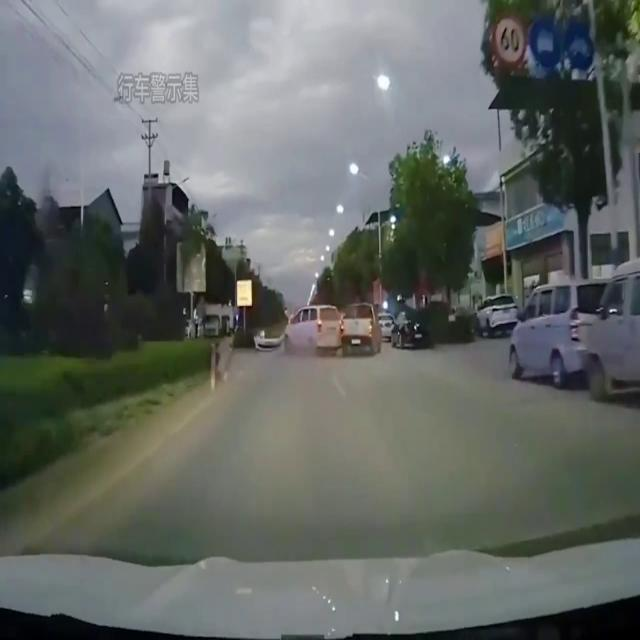accident: (285, 306, 381, 352)
non-accident: (199, 301, 235, 339)
